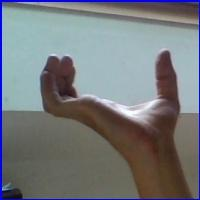B: (39, 43, 190, 153)
